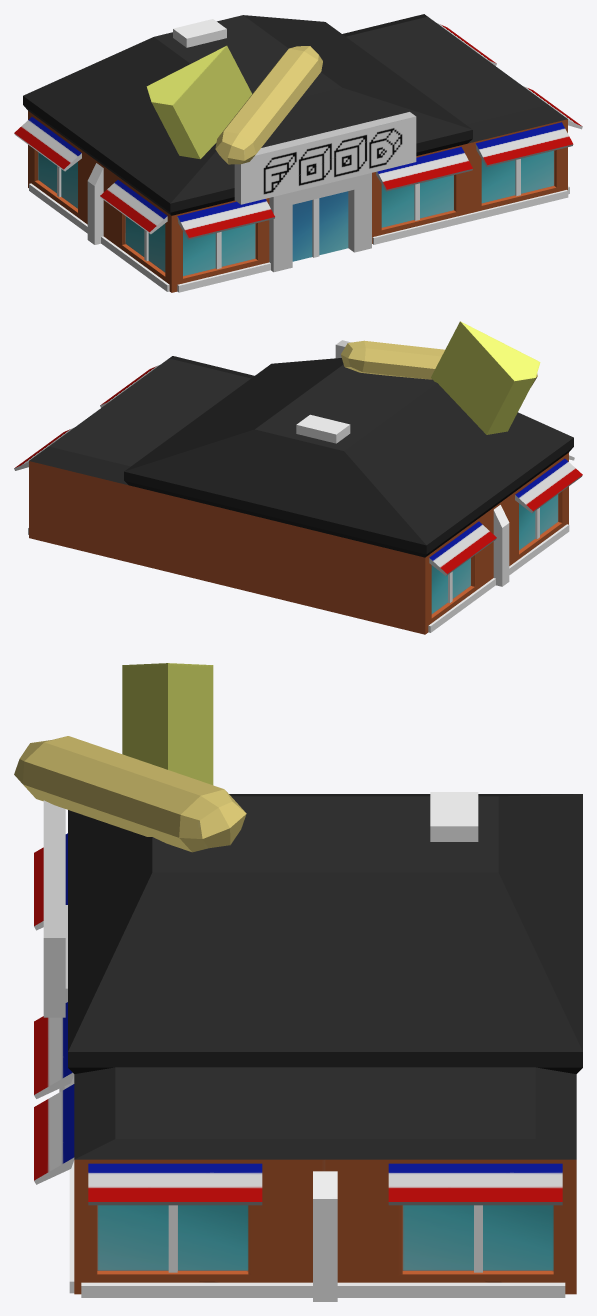
The model's file is Food House French.fbx.
3 renders of one model, top to bottom at view 1: azimuth 30°, elevation 25°; view 2: azimuth 150°, elevation 25°; view 3: azimuth 270°, elevation 25°, orthographic. The views are drawn at different scales.
Parts seen in each view (by area): view 1: Food House French; view 2: Food House French; view 3: Food House French.
Boxes of the visible parts, left/top/right/bottom form: Food House French: left=14, top=14, right=582, bottom=292; Food House French: left=14, top=321, right=582, bottom=634; Food House French: left=14, top=663, right=582, bottom=1301.
Size of the model in its own units: 5.84 by 2.68 by 3.8.
